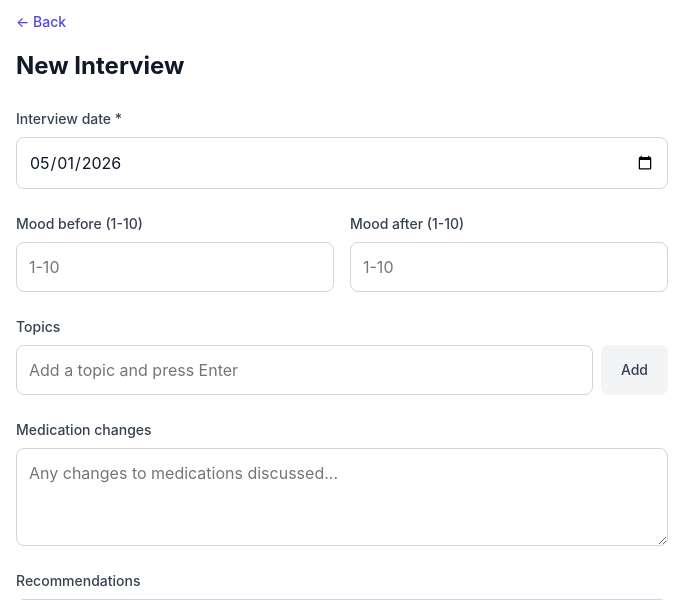
Scenario: InterviewFormView › adds topic when add button is clicked
In the field with id "topic-input": (304, 370) [16, 345, 593, 395], type "anxiety"
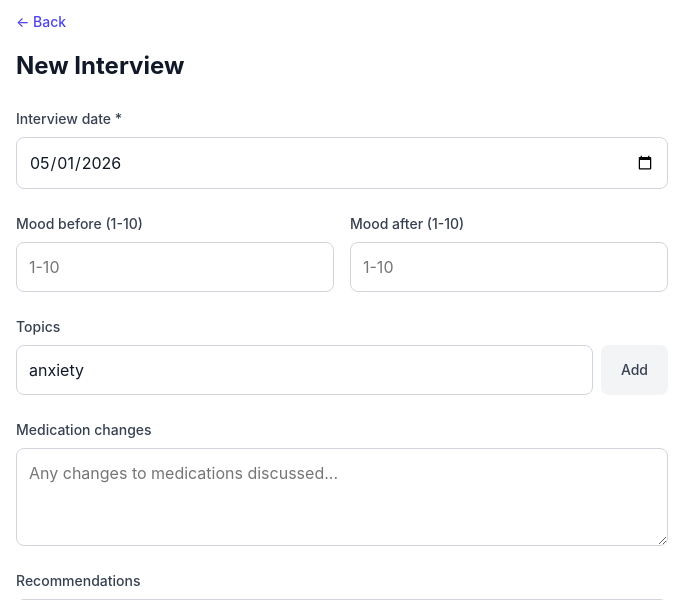
Click the button "Add": (634, 370) [601, 345, 668, 395]
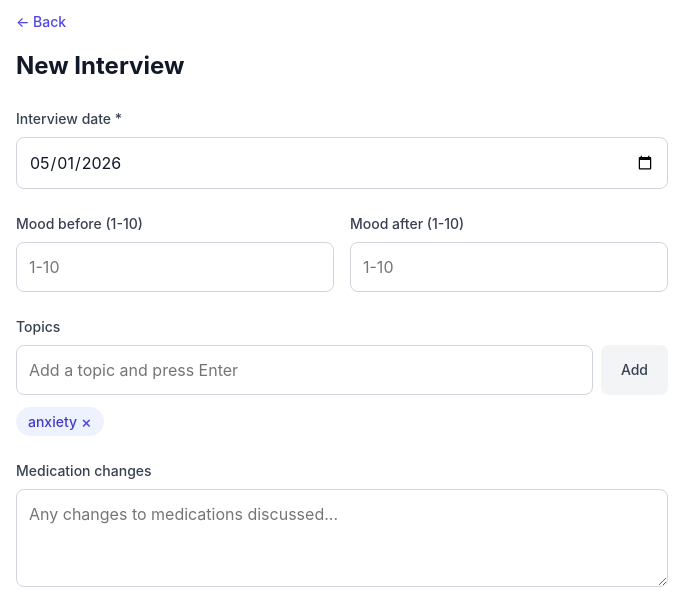
Check: the number of elements with class "topic-chip" is 1, box [16, 407, 104, 436]
Check: the element with class "topic-chip" shows "anxiety", box [28, 413, 77, 430]
